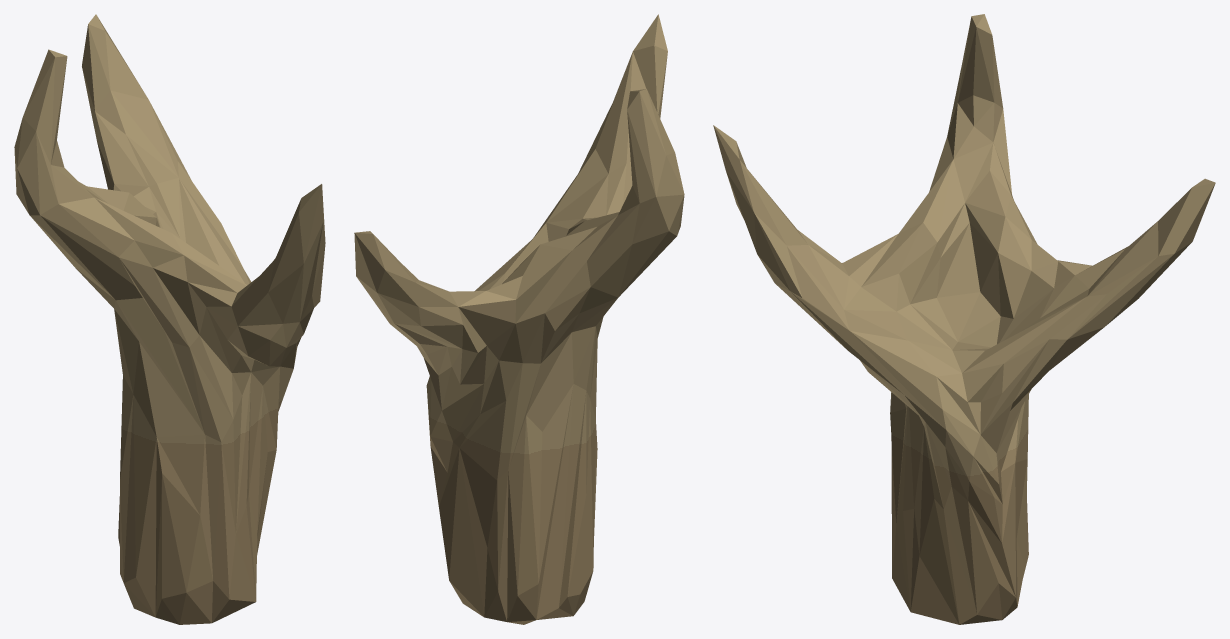
File: YN_Tree1.fbx
The picture shows the model from 3 angles, left to right: view 1: azimuth 30°, elevation 25°; view 2: azimuth 150°, elevation 25°; view 3: azimuth 270°, elevation 25°; orthographic projection. The views are drawn at different scales.
Parts seen in each view (by area): view 1: Tree1; view 2: Tree1; view 3: Tree1.
Part boxes in pixels (x1,y1,x2,y2): Tree1: (14, 14, 325, 624); Tree1: (354, 14, 684, 624); Tree1: (713, 14, 1215, 624).
Bounding box in the file's own units: 2.35 × 4.92 × 4.13.
